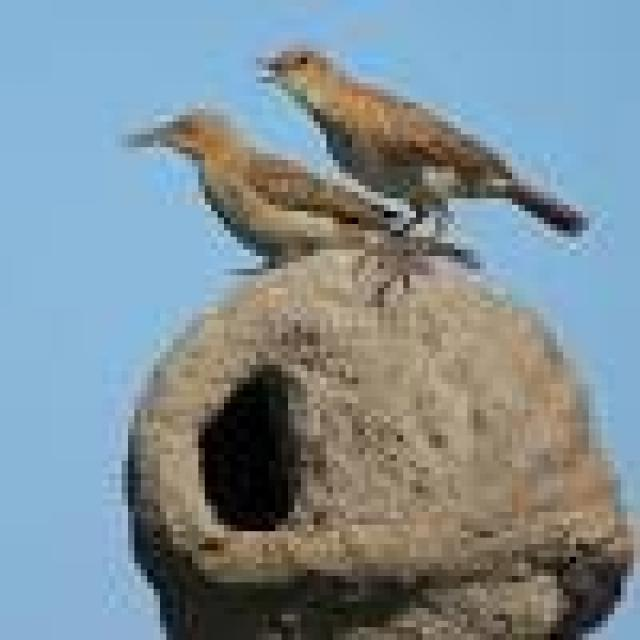bird: (252, 35, 618, 304), (106, 92, 426, 298)
